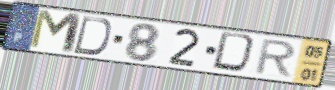2: (167, 28, 201, 69)
8: (122, 22, 162, 63)
D: (210, 30, 261, 76), (71, 15, 114, 57)
M: (26, 8, 85, 56)
R: (252, 38, 299, 80)
